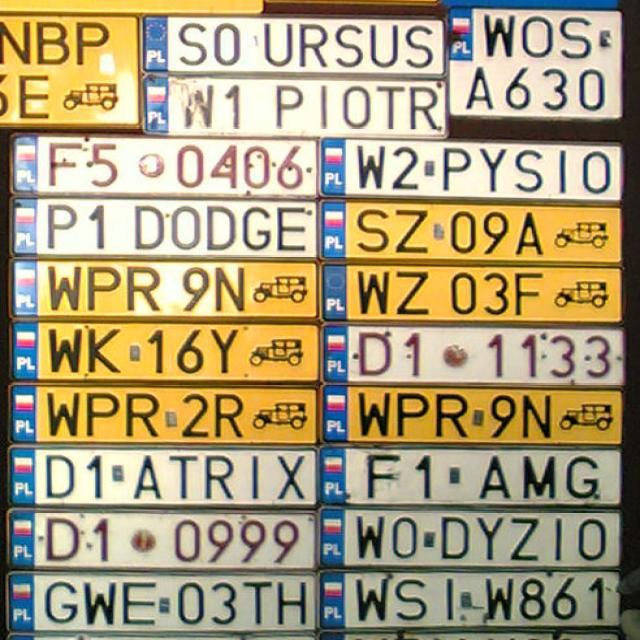pl_license_plate: (448, 7, 619, 118), (142, 15, 445, 76), (10, 258, 314, 318), (142, 76, 445, 136), (12, 134, 315, 194), (13, 197, 316, 257), (13, 320, 316, 380), (318, 138, 620, 198), (318, 262, 626, 320), (7, 385, 314, 443), (7, 446, 314, 504), (5, 508, 312, 566), (5, 572, 312, 630), (316, 202, 623, 260), (322, 322, 628, 380), (320, 386, 619, 441), (320, 446, 619, 501), (319, 571, 618, 626), (319, 508, 618, 562)
